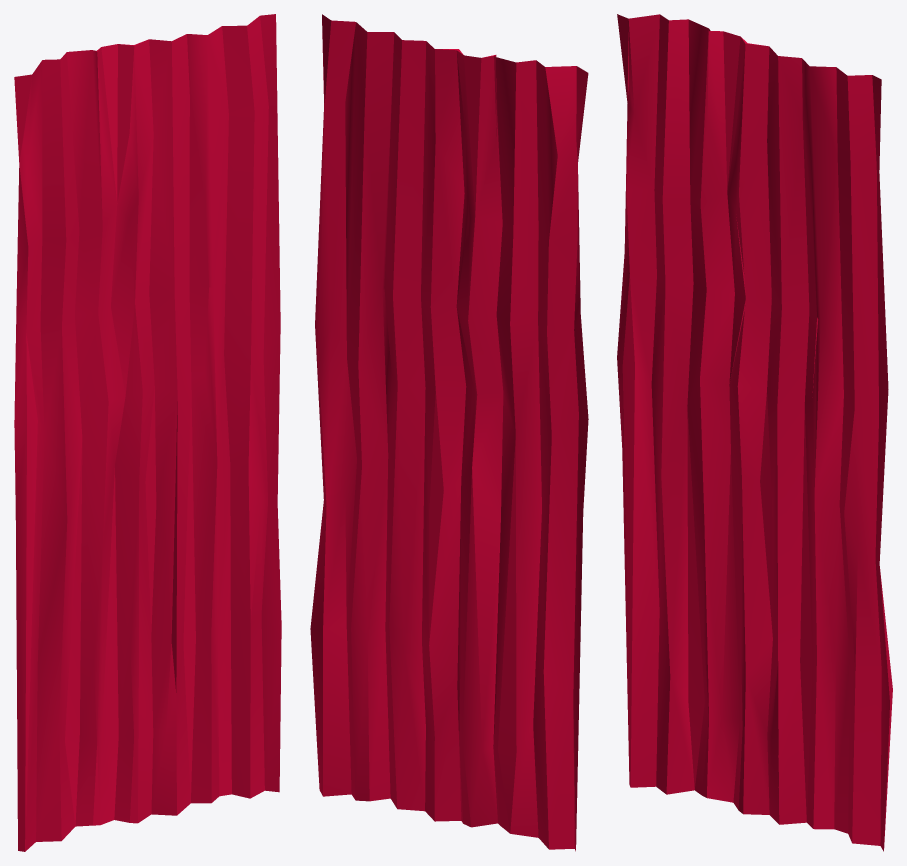
Rendered from panel12-lod1.fbx.
3 views of the same model, side by side, from view 1: azimuth 30°, elevation 25°; view 2: azimuth 150°, elevation 25°; view 3: azimuth 330°, elevation 25° (orthographic).
Visible parts, largest first — view 1: panel12-lod1; view 2: panel12-lod1; view 3: panel12-lod1.
Part boxes in pixels (left/top/right/bottom): panel12-lod1: left=14, top=14, right=281, bottom=851; panel12-lod1: left=310, top=14, right=588, bottom=851; panel12-lod1: left=617, top=14, right=892, bottom=851.
Bounding box in the file's own units: 0.5225 × 1.44 × 0.0603.
